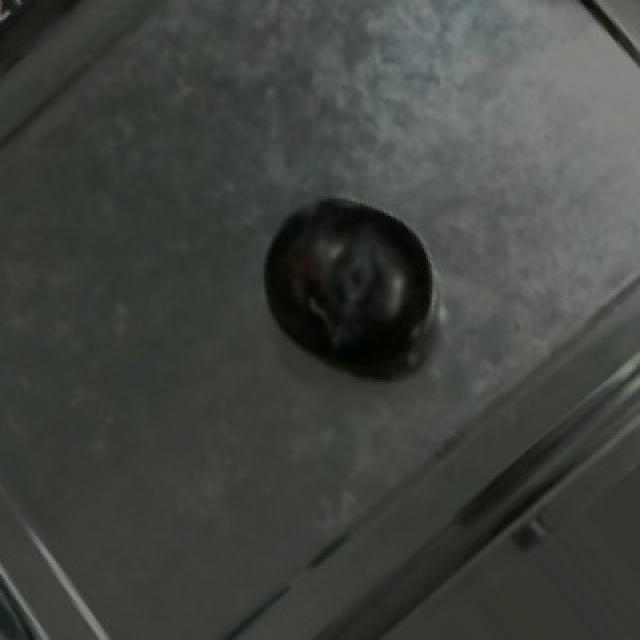Fruit: (246, 186, 454, 385)
